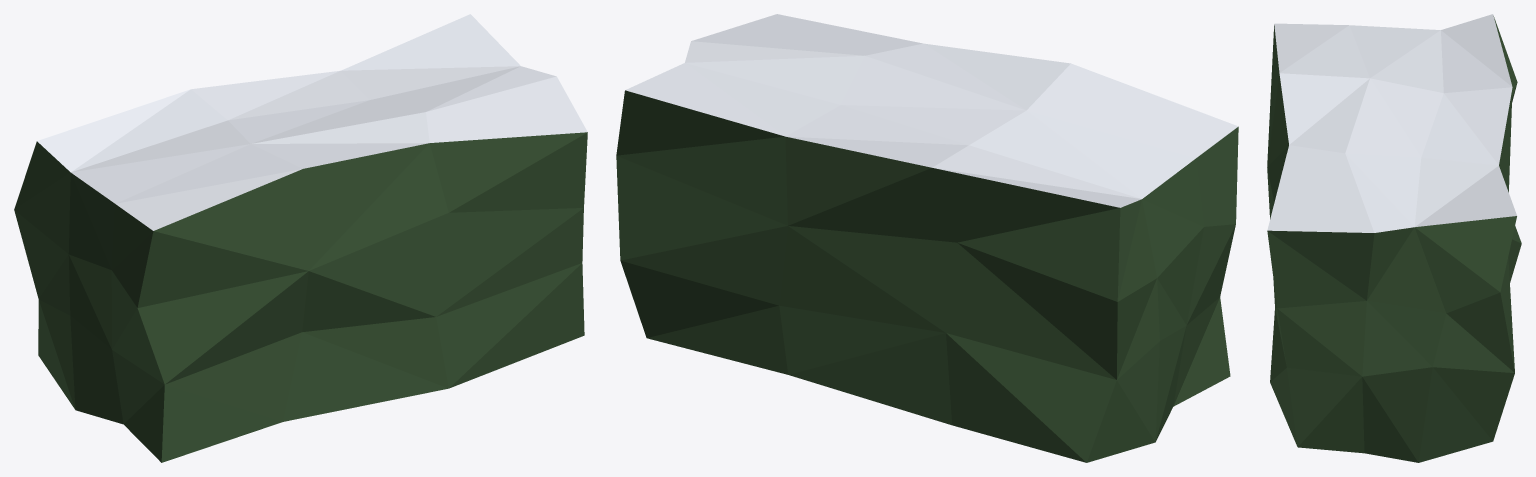
File: hedge.glb
3 views of the same model, side by side, from view 1: azimuth 30°, elevation 25°; view 2: azimuth 150°, elevation 25°; view 3: azimuth 270°, elevation 25° (orthographic). The views are drawn at different scales.
Parts seen in each view (by area): view 1: hedge; view 2: hedge; view 3: hedge.
Boxes of the visible parts, x1,y1,x2,y2 form: hedge: (14,14,587,462); hedge: (616,14,1238,462); hedge: (1267,14,1521,462).
Bounding box in the file's own units: 2.13 × 1.13 × 1.03.
